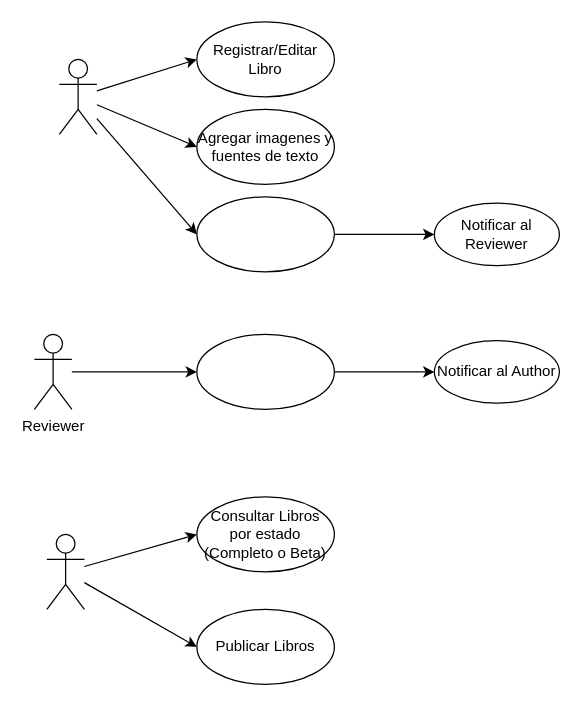
Image size: 581x706. Some labels were removed from this diagram. The centre of each missing label's shape, as x and y in pixels:
"Agregar Cambios para aprobación" goes at (x=265, y=371).
"Aprobar/Rechazar Cambios del Reviewer" goes at (x=265, y=234).
"Author" goes at (x=77, y=96).
"Publisher" goes at (x=65, y=571).
